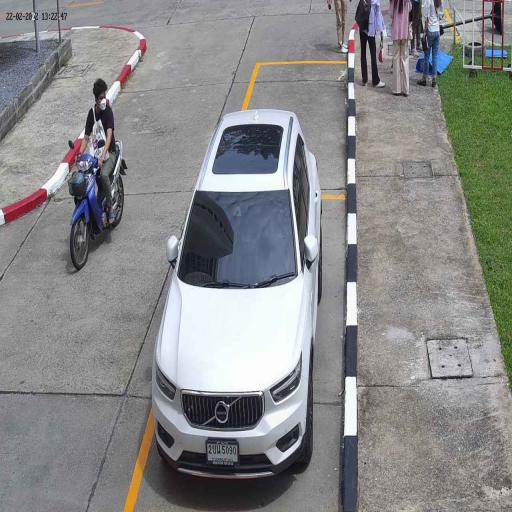car: (149, 108, 323, 484)
motorcycle: (70, 150, 130, 272)
